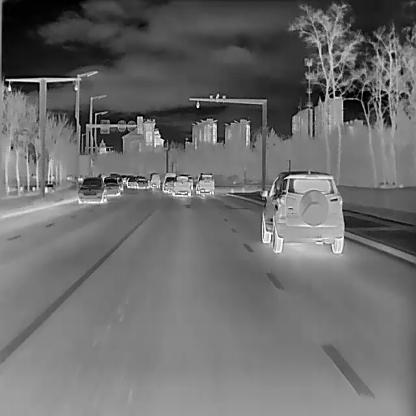car: (259, 169, 344, 253), (77, 176, 106, 202), (195, 171, 214, 195), (171, 174, 190, 196), (104, 176, 119, 195), (109, 174, 122, 190), (162, 175, 174, 191), (149, 171, 160, 187), (137, 177, 148, 188), (126, 176, 136, 187)
